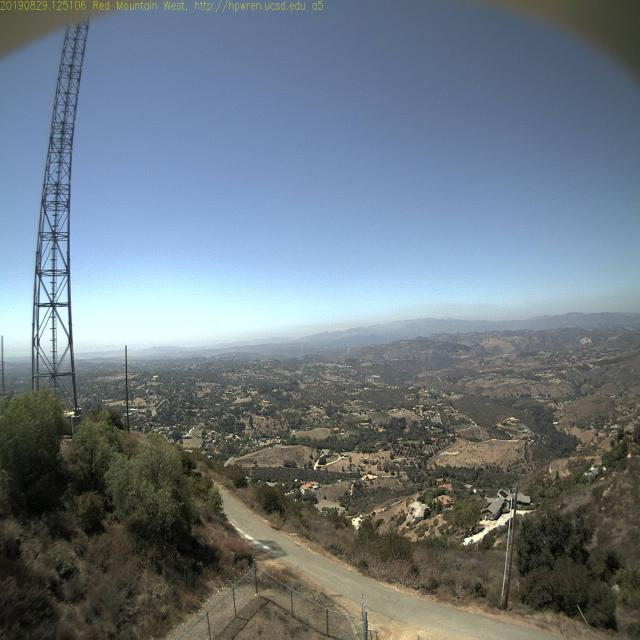smoke: (329, 323, 369, 342)
